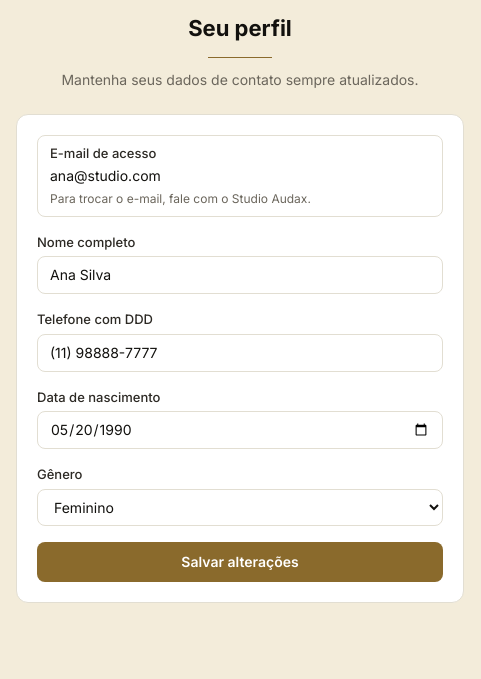
Test: TelaPerfilPainel › salvar envia os dados editados e mostra confirmação
Replace the text in the field labelled "Nome completo" with "Ana Souza" at (240, 275), box [37, 256, 443, 294]
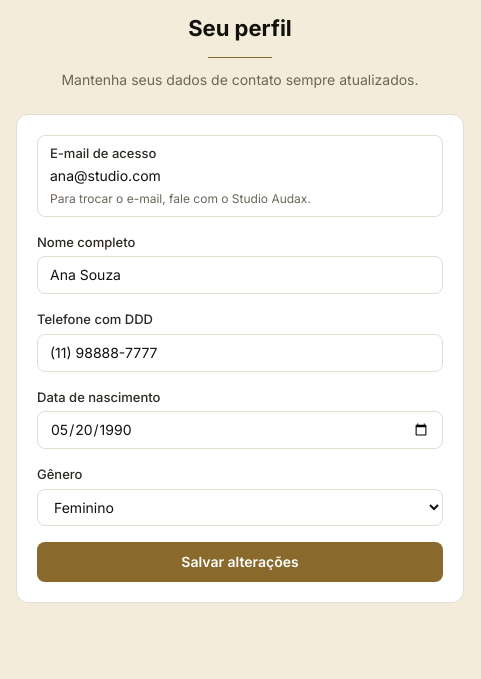
Replace the text in the field labelled "Telefone com DDD" with "11977776666" at (240, 352), box [37, 334, 443, 372]
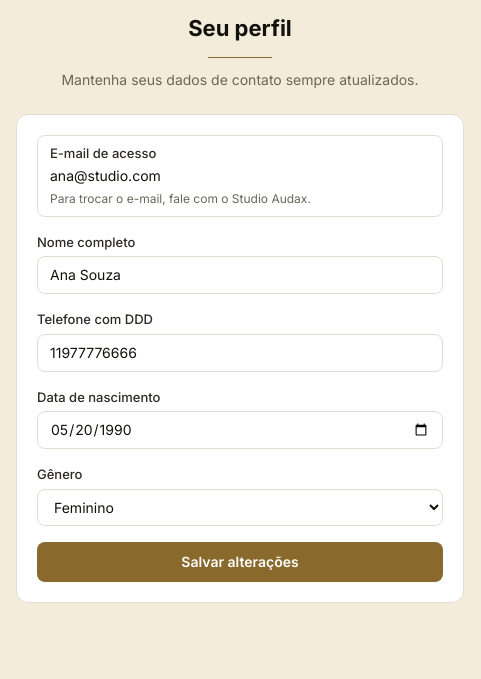
Select "Outro" in the dropdown labelled "Gênero" at (240, 507), box [37, 488, 443, 526]
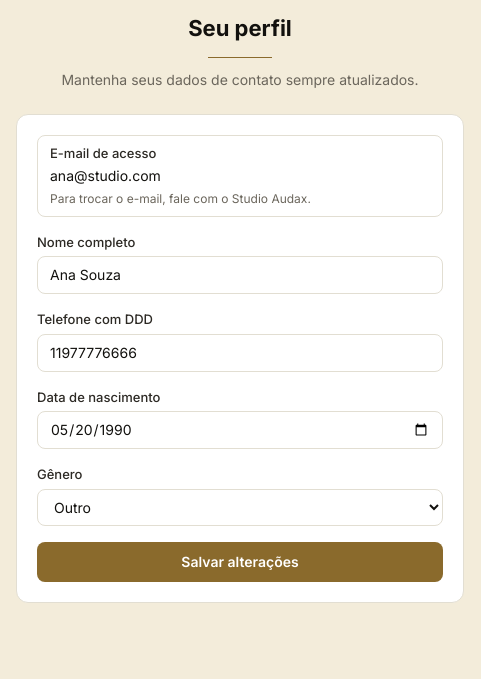
Click the button "Salvar alterações".
click(240, 562)  # box [37, 542, 443, 582]
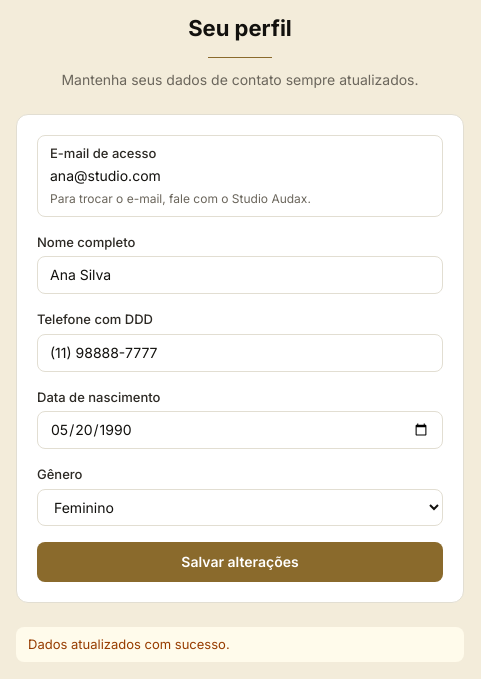
Now the message shows "atualizados com sucesso", box [28, 636, 230, 652]
